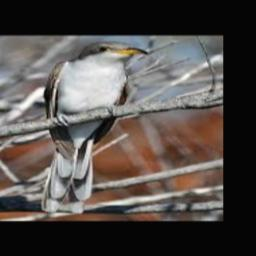Cuckoo: (42, 41, 148, 212)
